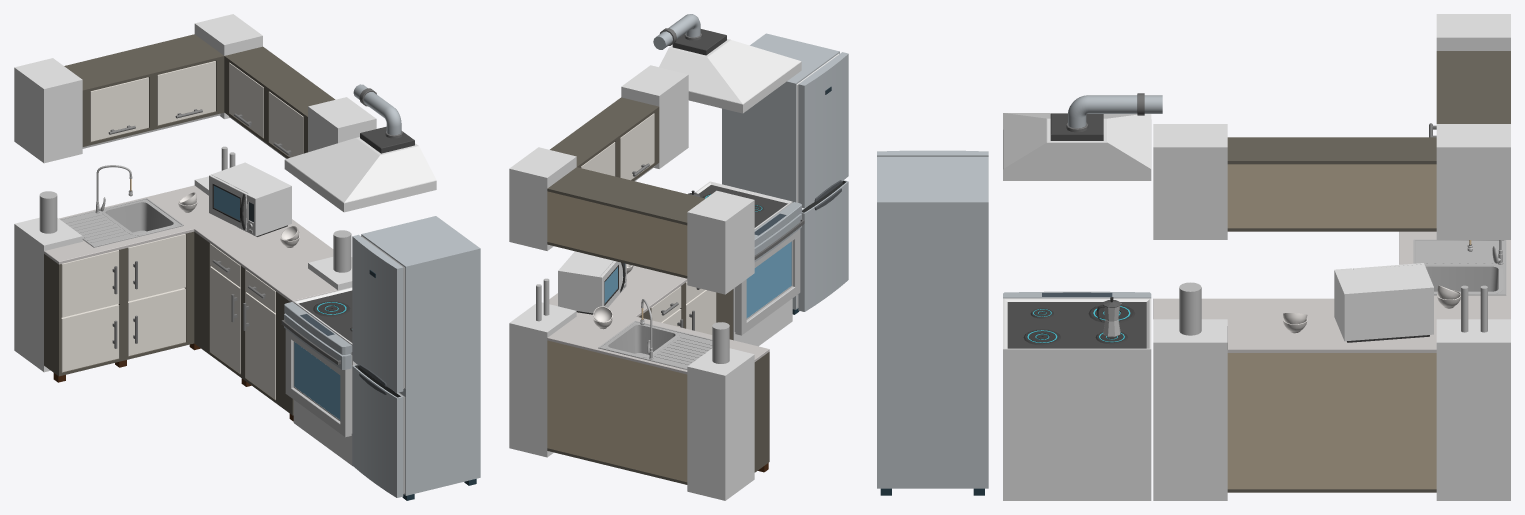
The model's file is conjunto cocina sin suelo.glb.
The picture shows the model from 3 angles, left to right: view 1: azimuth 30°, elevation 25°; view 2: azimuth 150°, elevation 25°; view 3: azimuth 270°, elevation 25°; orthographic projection. The views are drawn at different scales.
Visible parts, largest first — view 1: Kitchen_Pul_002, Fridge_001, Stove_001, Strang_006, Strang_003, Kitchen_Microwave_001, kitchen-sink, Strang_008, Strang_007, Strang_001, Air_Tube_001, Sink_Tube_002; view 2: Kitchen_Pul_002, Fridge_001, Stove_001, Strang_003, Strang_006, Strang_002, Strang_007, Strang_008, Kitchen_Microwave_001, kitchen-sink, Air_Tube_001; view 3: Kitchen_Pul_002, Stove_001, Fridge_001, Strang_002, Strang_001, Strang_007, Strang_008, Kitchen_Microwave_001, kitchen-sink, Strang_006, Sink_Tube_002.
Part boxes in pixels (bbox=[...]): Kitchen_Pul_002: bbox=[44, 34, 337, 421]; Fridge_001: bbox=[352, 216, 480, 500]; Stove_001: bbox=[281, 84, 436, 465]; Strang_006: bbox=[14, 58, 82, 163]; Strang_003: bbox=[14, 217, 82, 372]; Kitchen_Microwave_001: bbox=[209, 162, 291, 236]; kitchen-sink: bbox=[60, 165, 183, 247]; Strang_008: bbox=[308, 97, 376, 152]; Strang_007: bbox=[194, 14, 262, 119]; Strang_001: bbox=[308, 257, 352, 290]; Air_Tube_001: bbox=[39, 191, 57, 233]; Sink_Tube_002: bbox=[333, 230, 351, 272]; Kitchen_Pul_002: bbox=[547, 97, 769, 484]; Fridge_001: bbox=[722, 33, 848, 314]; Stove_001: bbox=[653, 14, 804, 346]; Strang_003: bbox=[687, 348, 754, 500]; Strang_006: bbox=[687, 190, 754, 294]; Strang_002: bbox=[509, 302, 576, 457]; Strang_007: bbox=[509, 147, 576, 250]; Strang_008: bbox=[621, 65, 688, 168]; Kitchen_Microwave_001: bbox=[558, 251, 626, 314]; kitchen-sink: bbox=[598, 299, 712, 369]; Air_Tube_001: bbox=[712, 322, 729, 363]; Kitchen_Pul_002: bbox=[1153, 51, 1510, 492]; Stove_001: bbox=[1003, 93, 1162, 500]; Fridge_001: bbox=[877, 150, 988, 495]; Strang_002: bbox=[1436, 319, 1510, 500]; Strang_001: bbox=[1153, 319, 1227, 500]; Strang_007: bbox=[1436, 124, 1510, 239]; Strang_008: bbox=[1153, 124, 1227, 239]; Kitchen_Microwave_001: bbox=[1334, 263, 1433, 342]; kitchen-sink: bbox=[1413, 239, 1506, 295]; Strang_006: bbox=[1436, 14, 1510, 50]; Sink_Tube_002: bbox=[1179, 282, 1201, 335].
Bounding box in the file's own units: 1.7 × 2.37 × 3.41.
